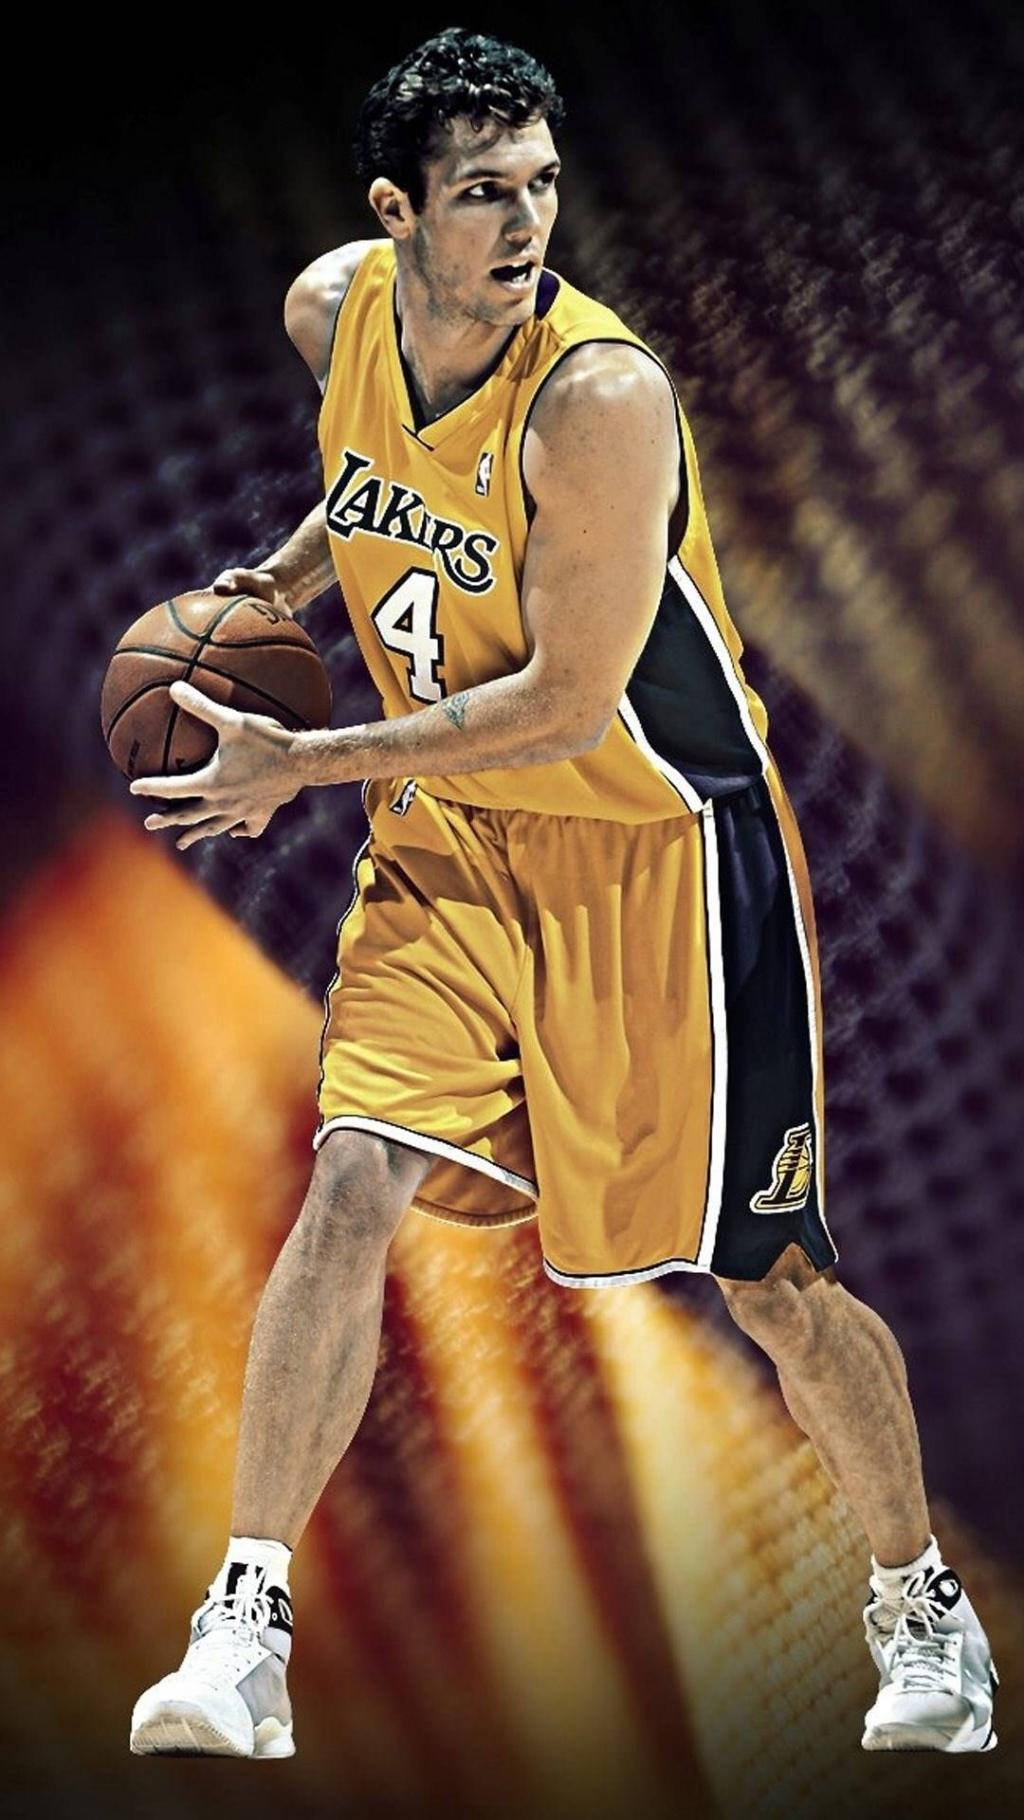ball: (101, 587, 330, 817)
